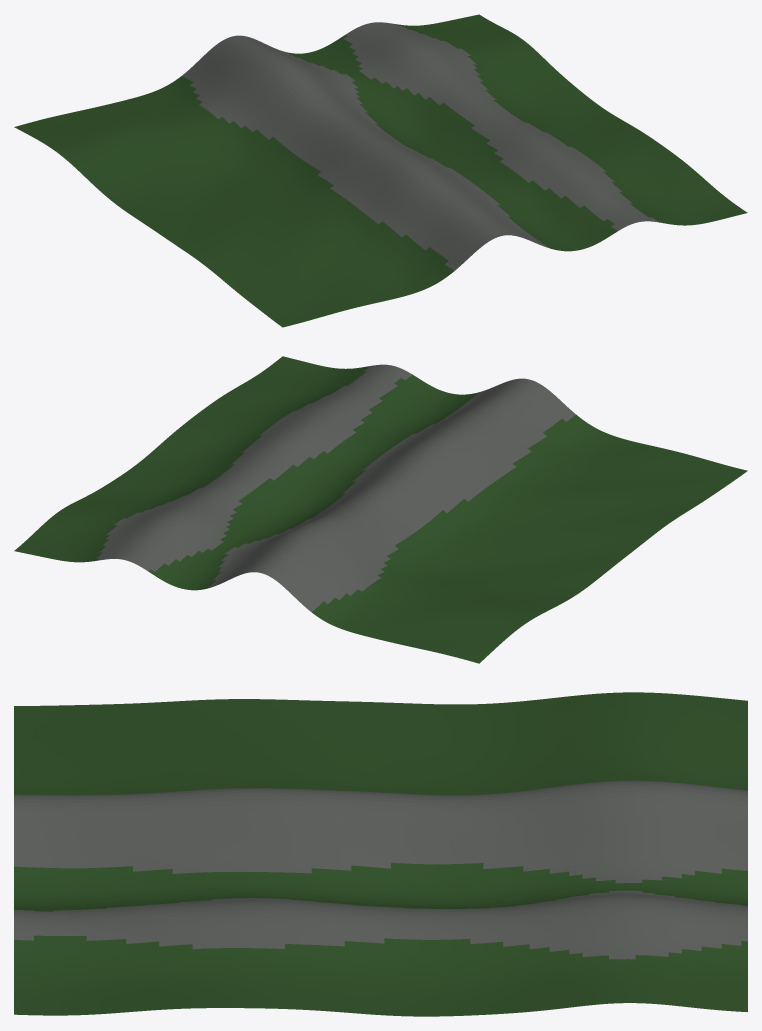
File: pine_granite_spur_112.obj
3 renders of one model, top to bottom at view 1: azimuth 30°, elevation 25°; view 2: azimuth 150°, elevation 25°; view 3: azimuth 270°, elevation 25°, orthographic. The views are drawn at different scales.
Size of the model in its own units: 222 by 22.18 by 222.
